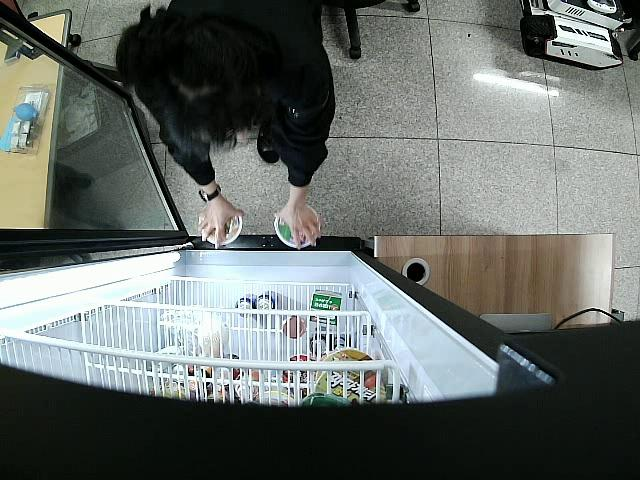00_hand: (196, 195, 244, 249), (274, 195, 321, 250)
09_yukGaeJang: (274, 203, 321, 249), (197, 204, 242, 247)
